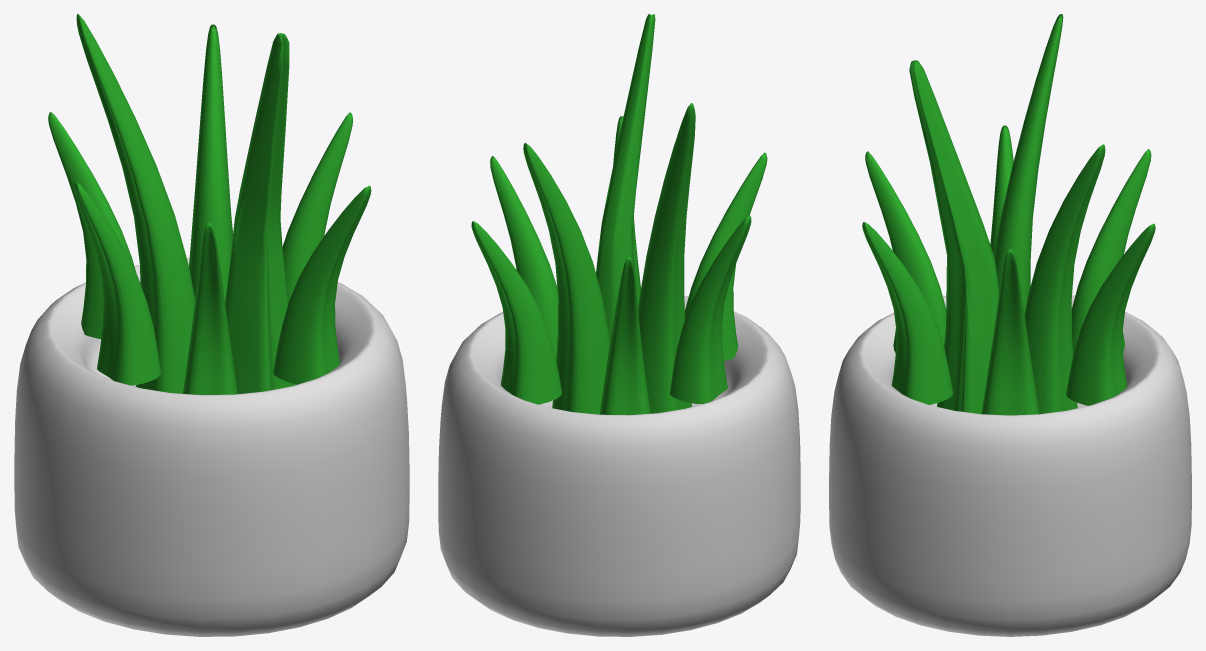
Rendered from grass.fbx.
3 renders of one model, left to right at view 1: azimuth 30°, elevation 25°; view 2: azimuth 150°, elevation 25°; view 3: azimuth 270°, elevation 25°, orthographic. The views are drawn at different scales.
Visible parts, largest first — view 1: Cylinder.001, Cube.020, Cube.021, Cube.019, Cube.017, Cube.022, Cube.018, Cube.014, Cube.016; view 2: Cylinder.001, Cube.022, Cube.021, Cube.020, Cube.015, Cube.017, Cube.016, Cube.014, Cube.018; view 3: Cylinder.001, Cube.020, Cube.022, Cube.019, Cube.015, Cube.021, Cube.014, Cube.016, Cube.018, Cube.017.
Boxes of the visible parts, x1,y1,x2,y2 form: Cylinder.001: (14,258,409,636); Cube.020: (225,33,296,393); Cube.021: (76,14,195,393); Cube.019: (273,185,371,384); Cube.017: (74,182,160,385); Cube.022: (189,24,232,302); Cube.018: (183,223,237,394); Cube.014: (282,112,352,302); Cube.016: (48,112,136,338); Cylinder.001: (438,295,800,636); Cube.022: (523,143,609,414); Cube.021: (638,103,695,413); Cube.020: (596,14,655,342); Cube.015: (471,221,561,404); Cube.017: (670,216,751,403); Cube.016: (599,257,650,415); Cube.014: (490,156,558,360); Cube.018: (685,152,767,360); Cylinder.001: (829,295,1191,636); Cube.020: (909,60,999,414); Cube.022: (1024,144,1105,414); Cube.019: (862,222,952,404); Cube.015: (1066,223,1155,405); Cube.021: (994,14,1063,313); Cube.014: (981,249,1039,415); Cube.016: (1072,149,1151,355); Cube.018: (865,151,946,353); Cube.017: (990,125,1013,254).
Bounding box in the file's own units: 0.2666 × 0.4265 × 0.2666.
